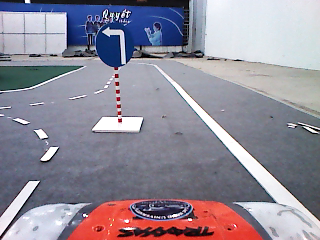turn: (95, 21, 135, 68)
